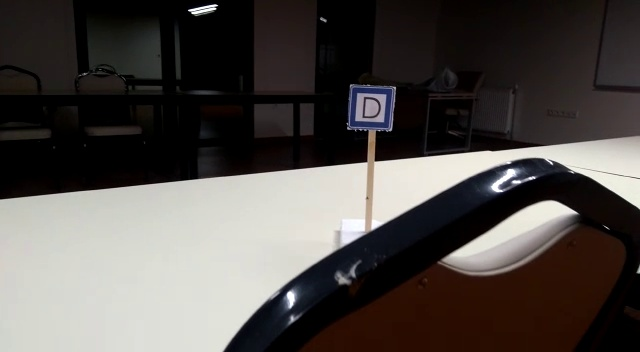durak: (347, 87, 395, 127)
